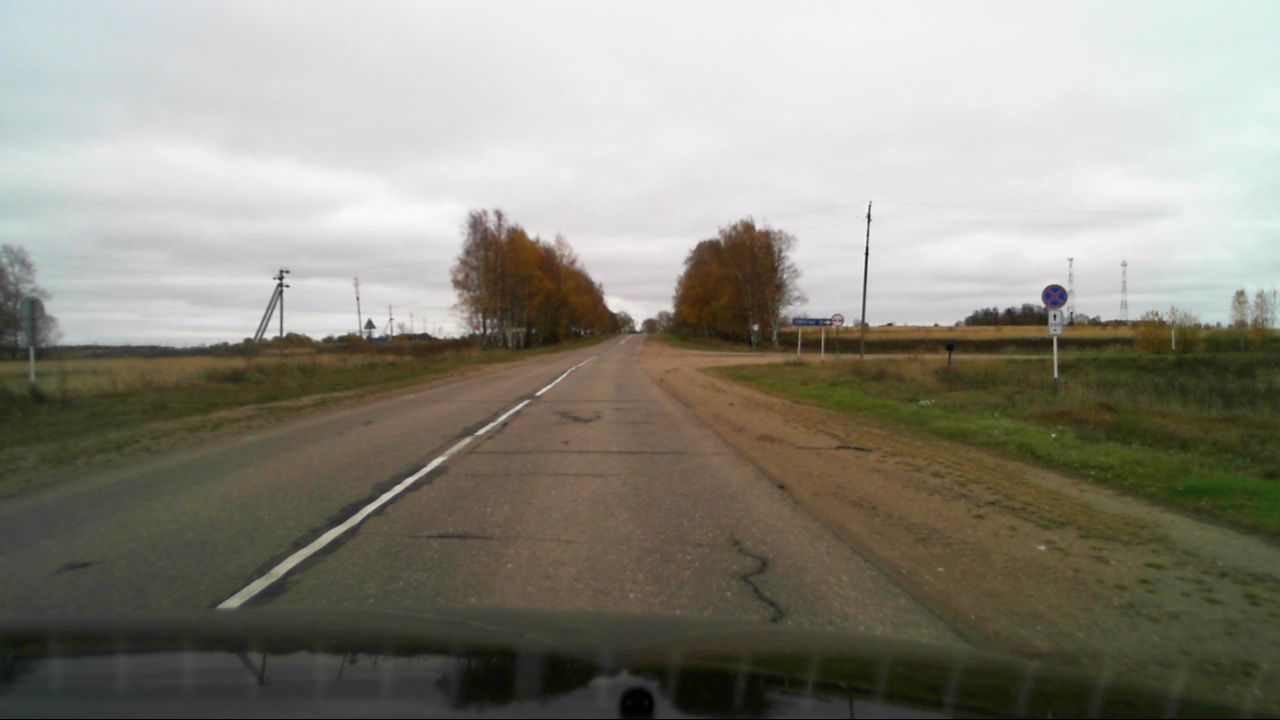No Parking: (1041, 281, 1067, 311)
